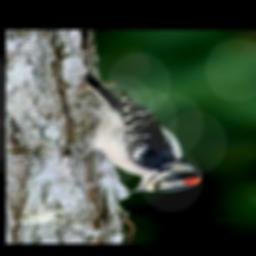Woodpecker: (73, 70, 205, 197)
